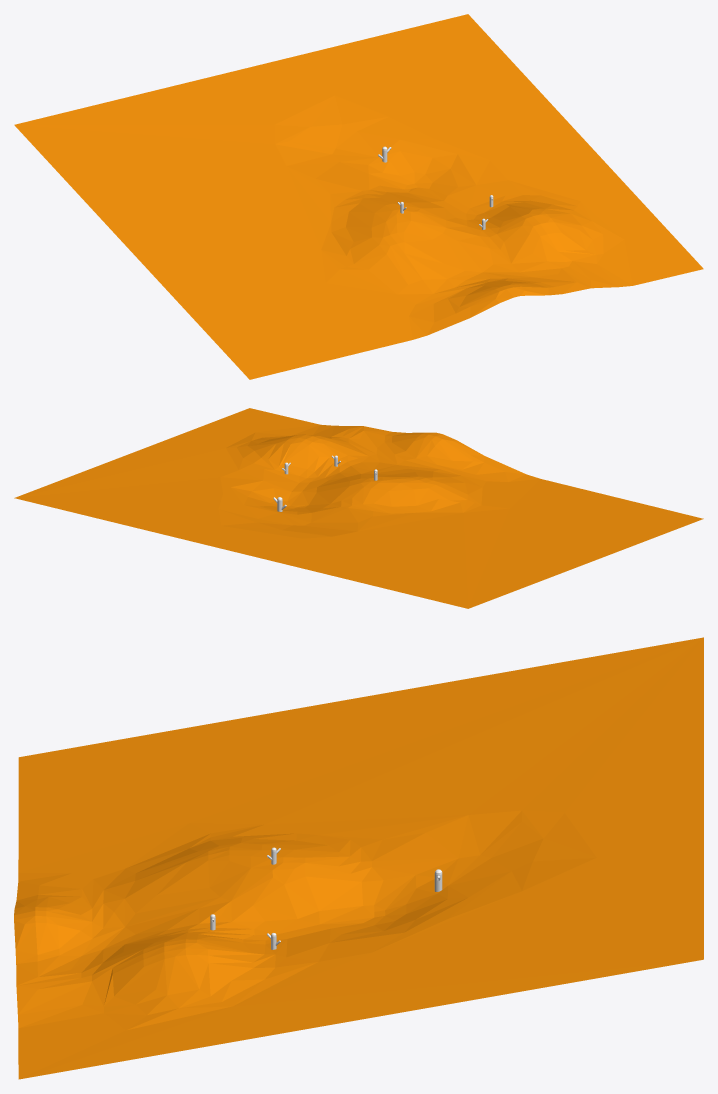
Rendered from Desert.obj.
3 renders of one model, top to bottom at view 1: azimuth 30°, elevation 25°; view 2: azimuth 150°, elevation 25°; view 3: azimuth 270°, elevation 25°, orthographic. The views are drawn at different scales.
Visible parts, largest first — view 1: Plane007; view 2: Plane007; view 3: Plane007.
Part boxes in pixels (bbox=[...]): Plane007: bbox=[14, 14, 703, 379]; Plane007: bbox=[14, 408, 703, 608]; Plane007: bbox=[14, 637, 703, 1079].
Size of the model in its own units: 632224 by 109689 by 572069.
